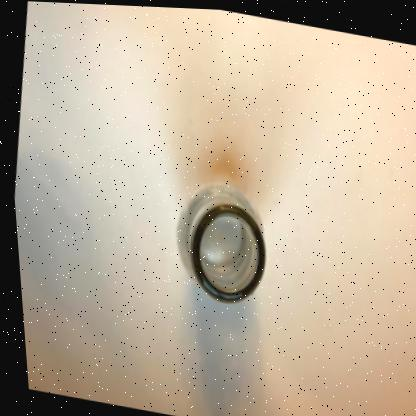Glass: (173, 183, 261, 300)
